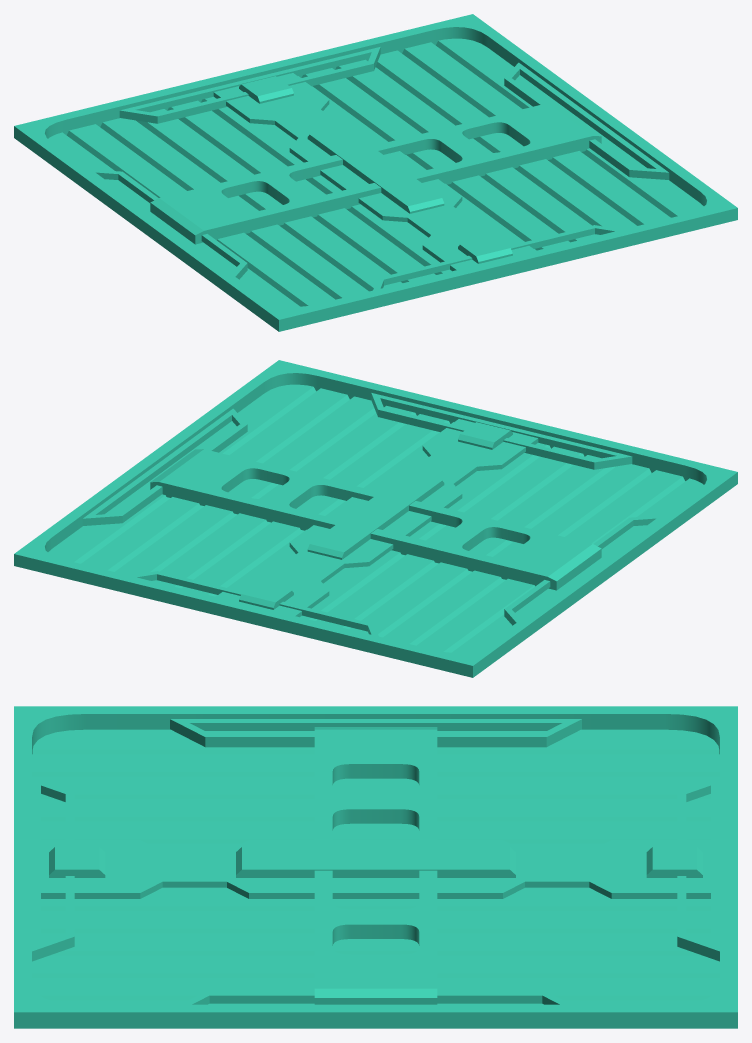
File: Floor_A_4x4m.FBX
3 renders of one model, top to bottom at view 1: azimuth 30°, elevation 25°; view 2: azimuth 150°, elevation 25°; view 3: azimuth 270°, elevation 25°, orthographic. The views are drawn at different scales.
Visible parts, largest first — view 1: Floor_A_4x4m; view 2: Floor_A_4x4m; view 3: Floor_A_4x4m.
Part boxes in pixels (<box>): Floor_A_4x4m: <box>14,14,737,331</box>; Floor_A_4x4m: <box>14,360,737,677</box>; Floor_A_4x4m: <box>14,706,737,1028</box>.
Bounding box in the file's own units: 400 × 15.22 × 400.
